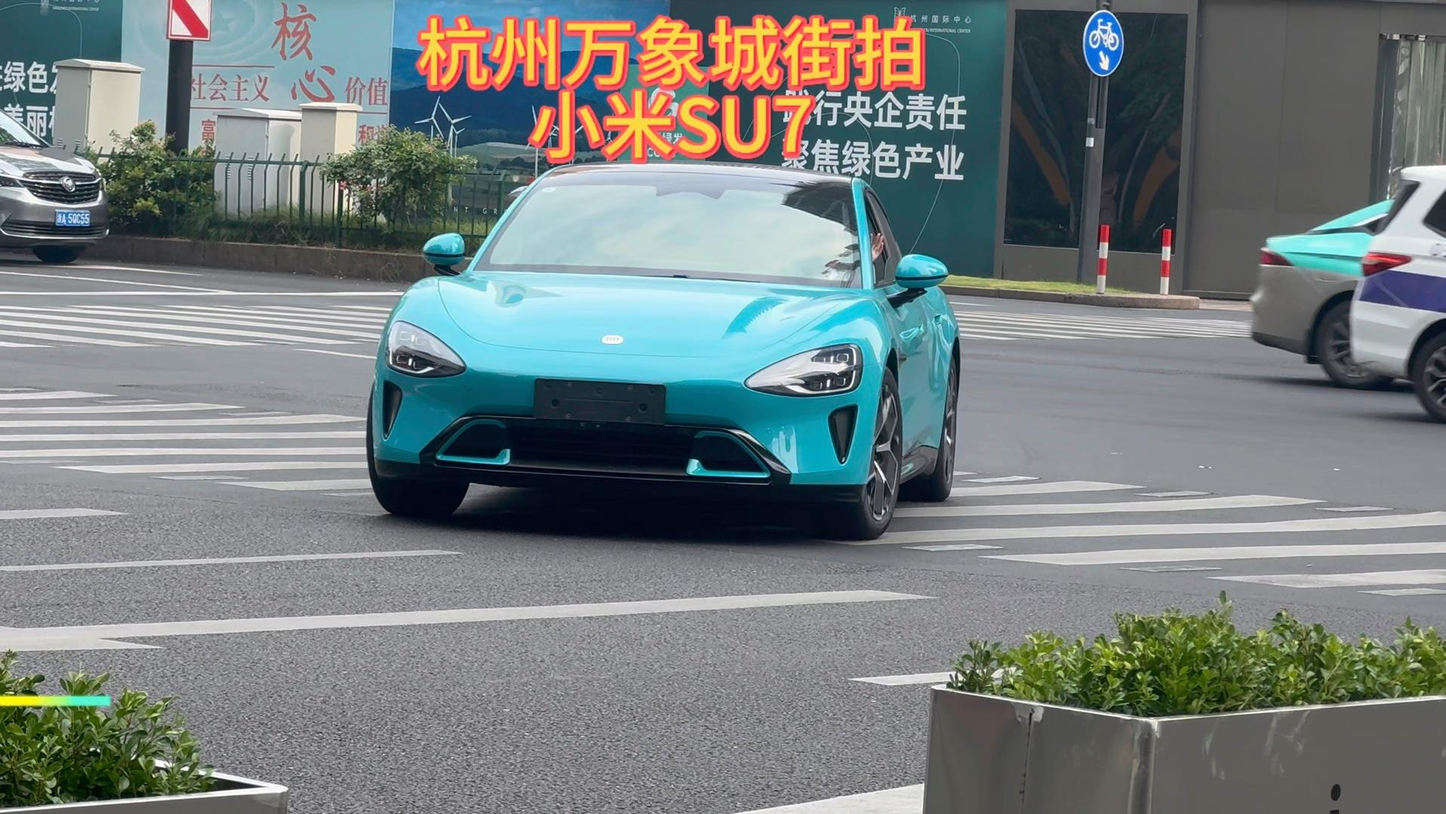other: (0, 99, 132, 269)
su7: (381, 155, 961, 525)
